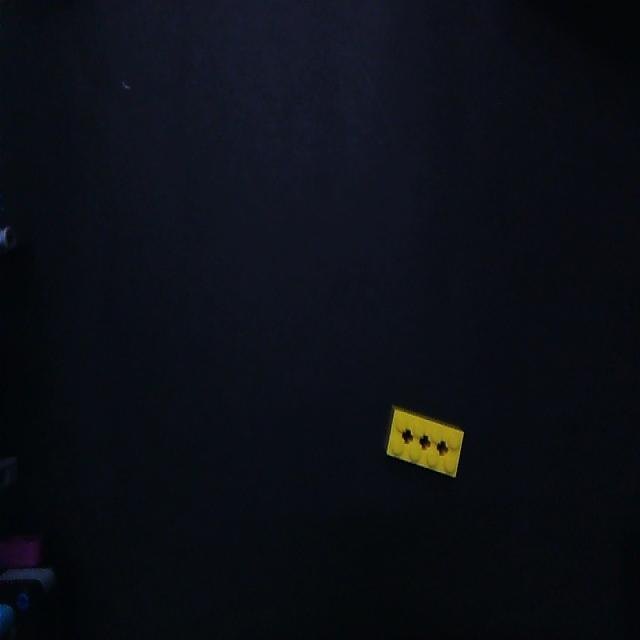lego_brick: (388, 407, 462, 476)
